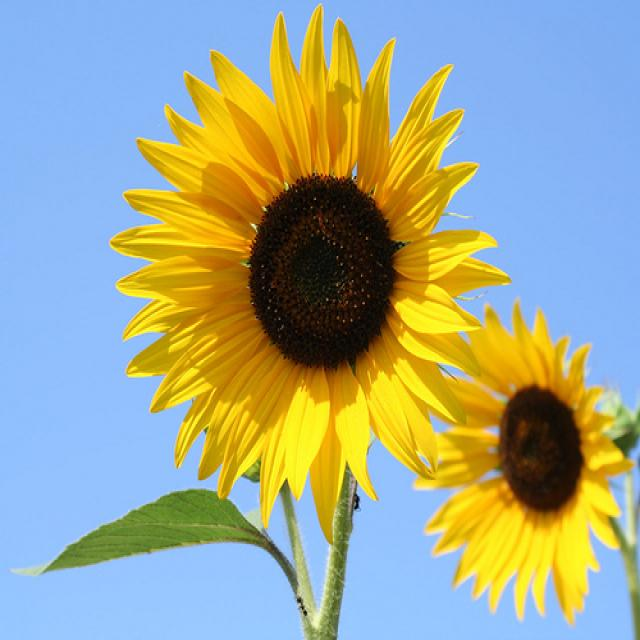sunflower: (104, 0, 518, 549), (404, 292, 640, 634)
